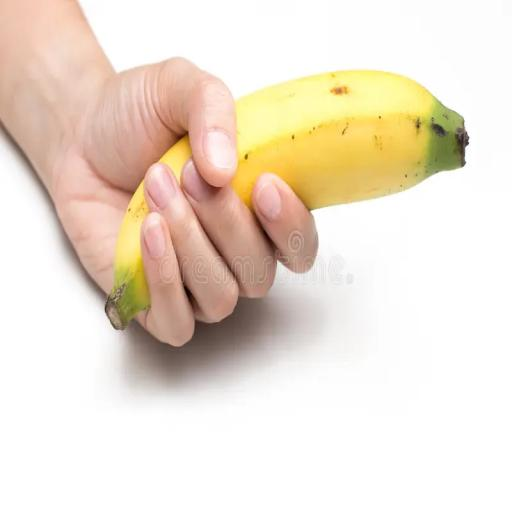banana: (232, 70, 468, 210)
